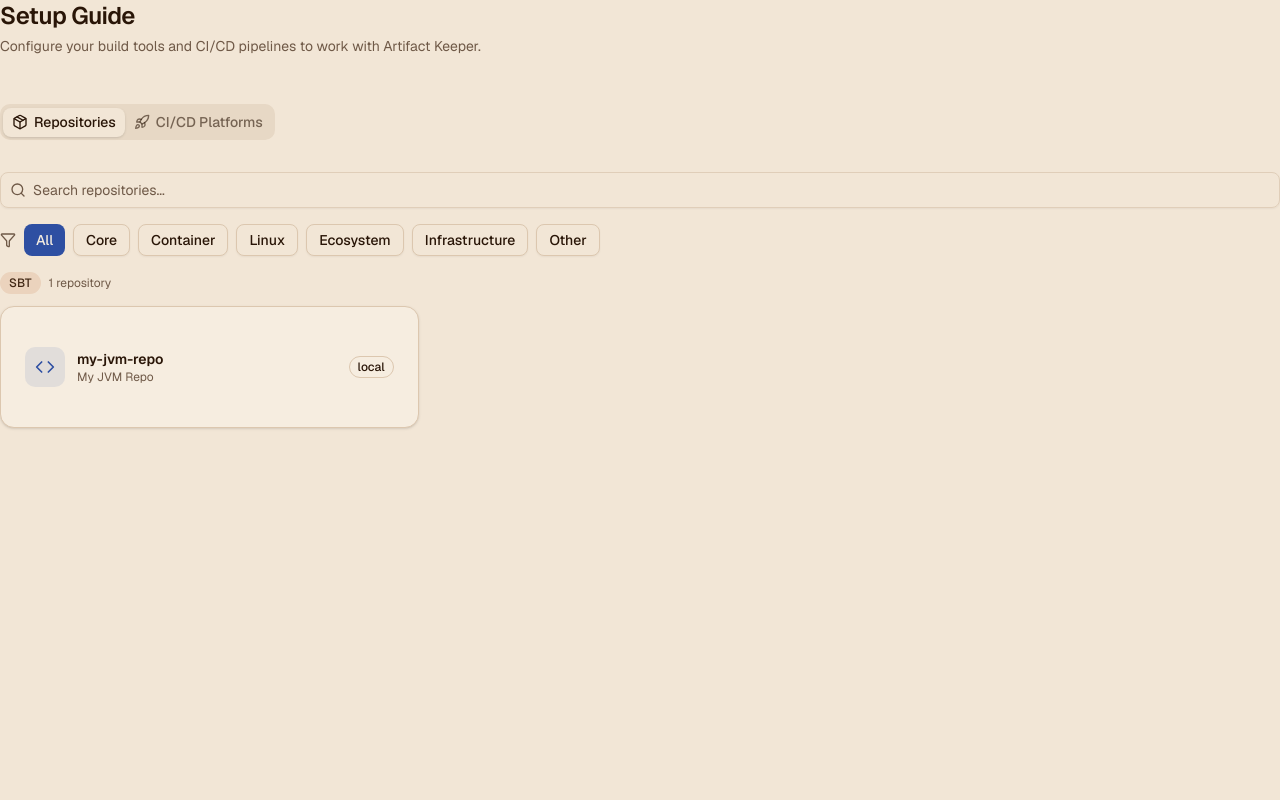
Scenario: SetupPage - JVM client variants › opens on the SBT tab for an sbt-format repo
The image size is (1280, 800).
expect the text "my-jvm-repo" is shown: met, box [77, 350, 163, 368]
Click the text "my-jvm-repo". click: (209, 367)
box: [0, 306, 419, 428]
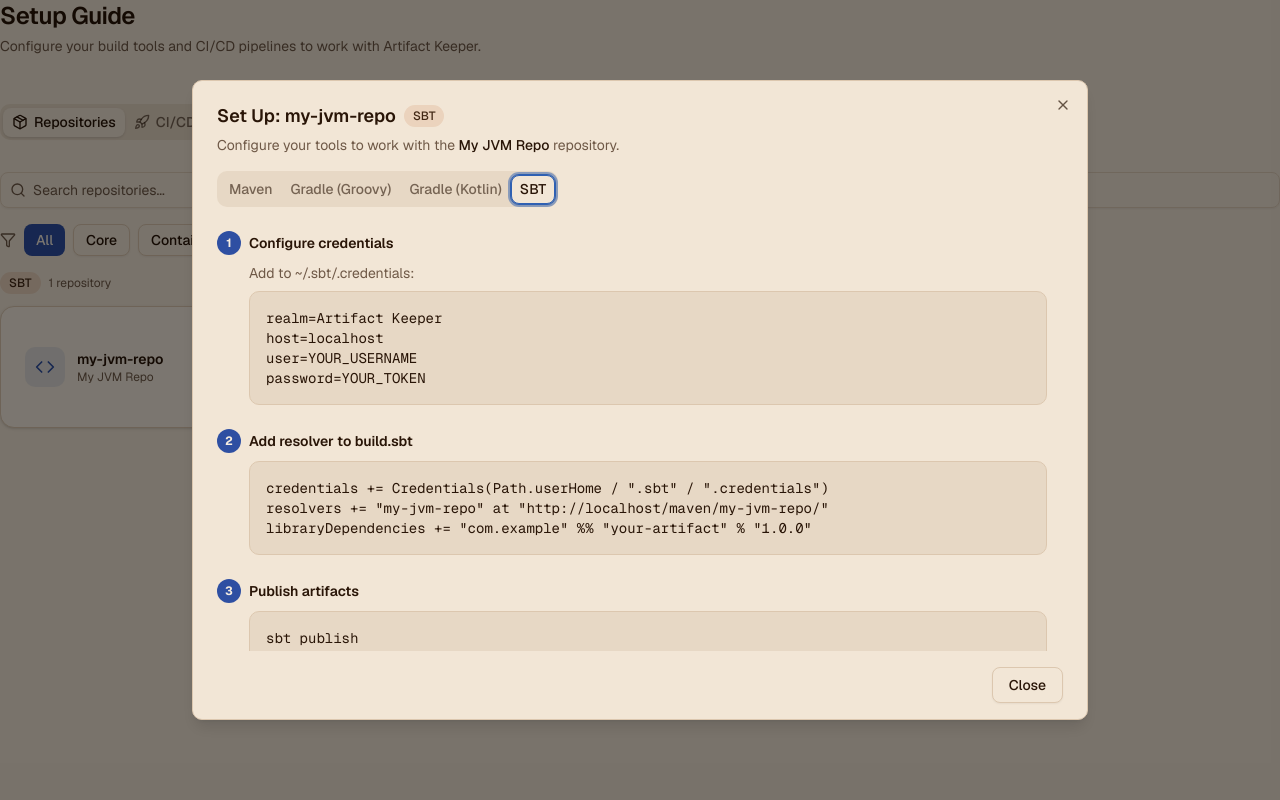
expect the dialog is shown: met, box [192, 80, 1088, 720]
expect the tab "SBT" is shown: met, box [511, 174, 555, 204]
